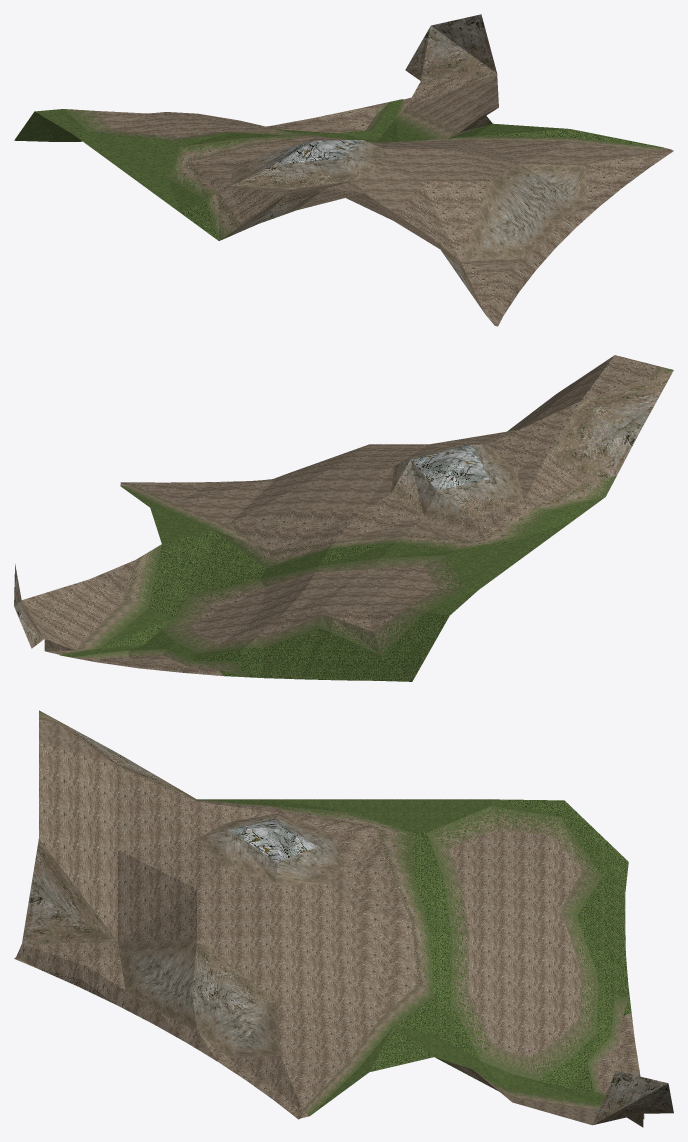
Rendered from lodcuntw30.obj.
3 renders of one model, top to bottom at view 1: azimuth 30°, elevation 25°; view 2: azimuth 150°, elevation 25°; view 3: azimuth 270°, elevation 25°, orthographic. The views are drawn at different scales.
Visible parts, largest first — view 1: lodcuntw30; view 2: lodcuntw30; view 3: lodcuntw30.
Part boxes in pixels (bbox=[...]): lodcuntw30: bbox=[14, 14, 673, 326]; lodcuntw30: bbox=[14, 355, 673, 681]; lodcuntw30: bbox=[14, 710, 673, 1127].
Bounding box in the file's own units: 237 × 93.34 × 263.
Materials: 6 (6 with a texture image).
